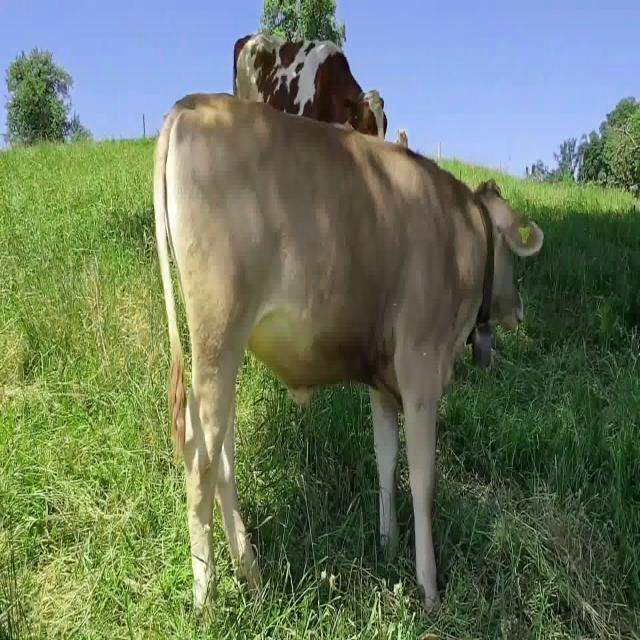cow: (154, 96, 542, 608), (234, 34, 386, 137)
